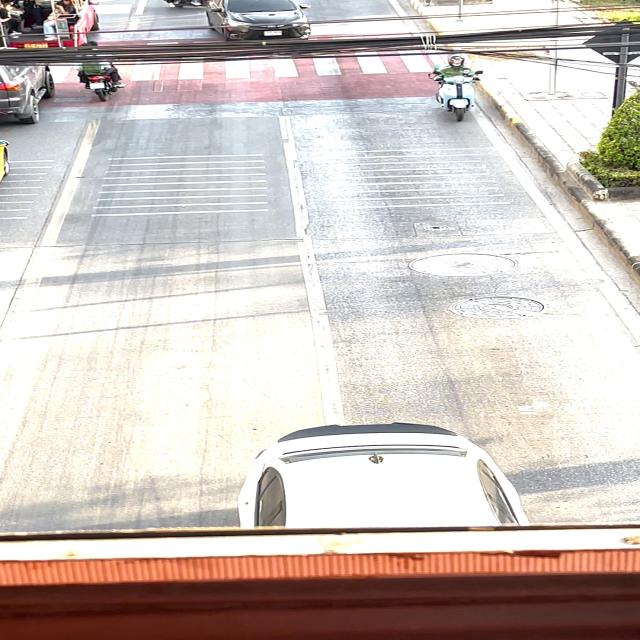car: (223, 405, 530, 537), (196, 0, 347, 52)
